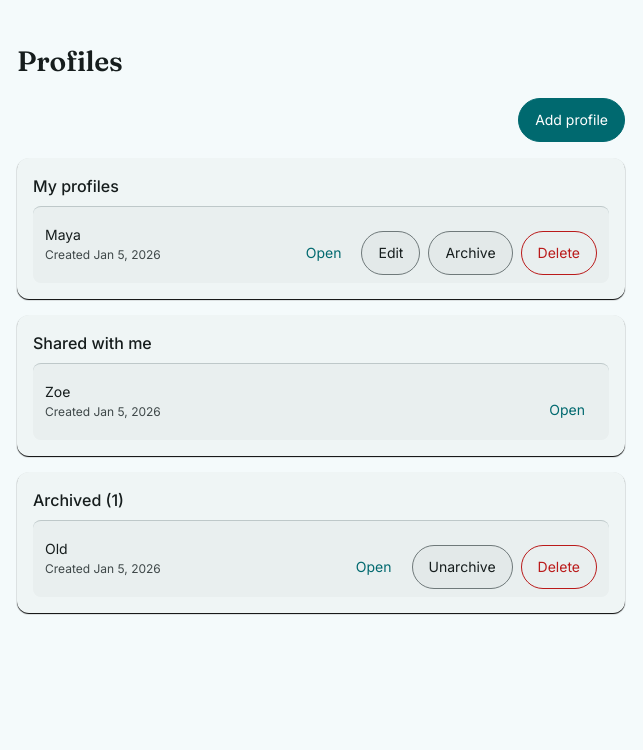
ProfilesPage (issue #1253) › requires the minimum-age acknowledgement when the account has none
Click the button "Add profile" at (572, 120), box [518, 98, 625, 142]
(page scrolled)
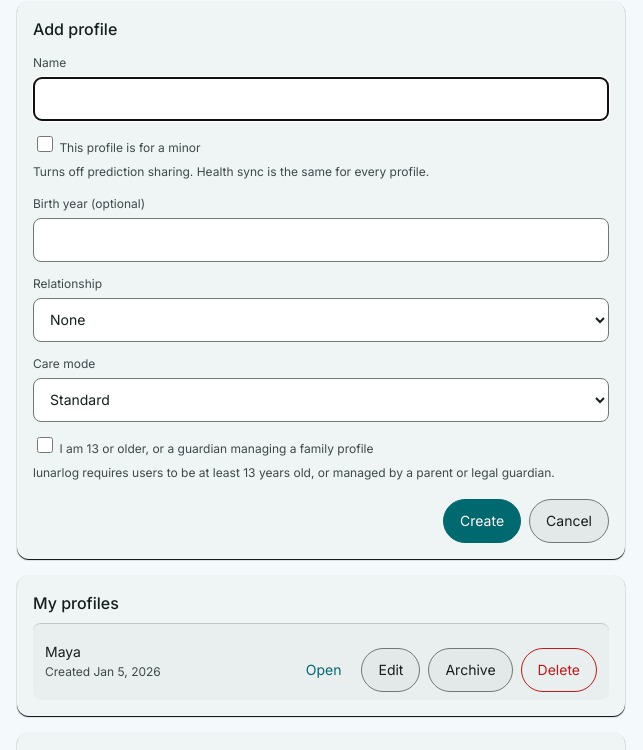
Type "Noor" into the field labelled "Name" at (321, 98), box [33, 76, 609, 120]
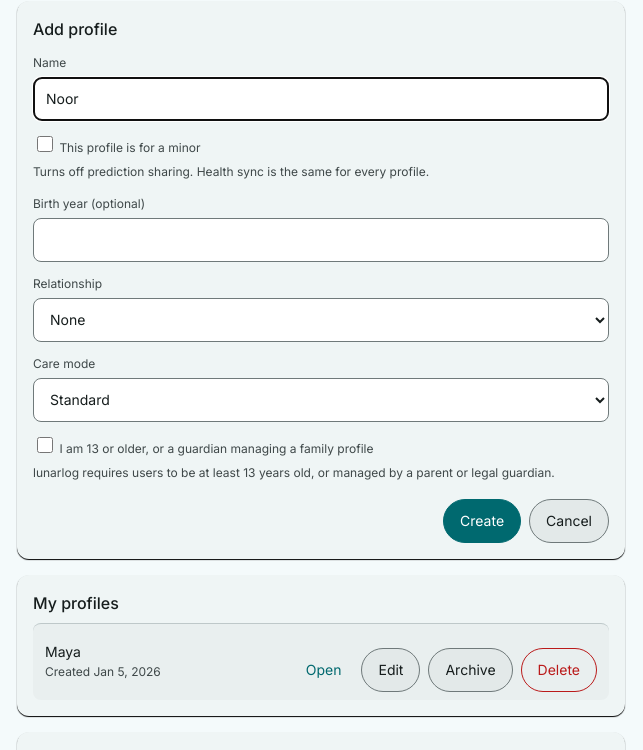
Submit the form from the button "Create", box [443, 498, 521, 542]
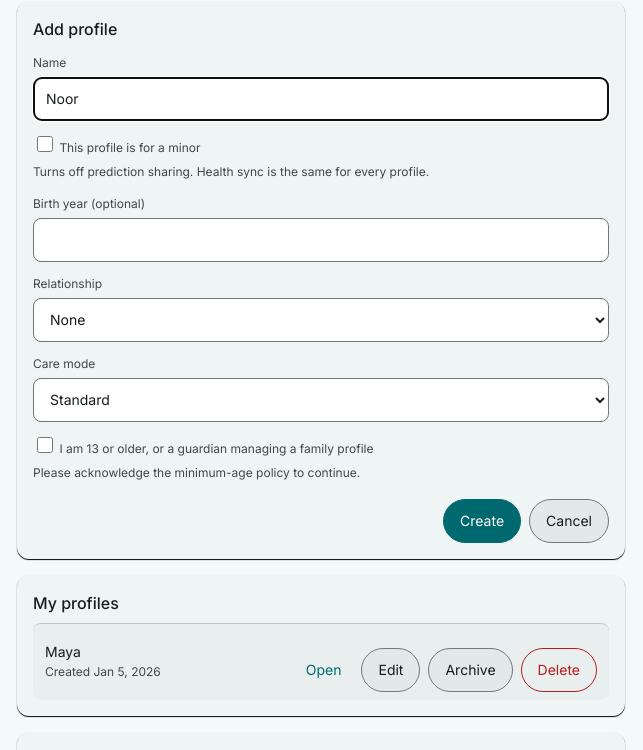
Check: the text "Please acknowledge the minimum-age policy to continue." is shown, box [33, 464, 360, 480]
